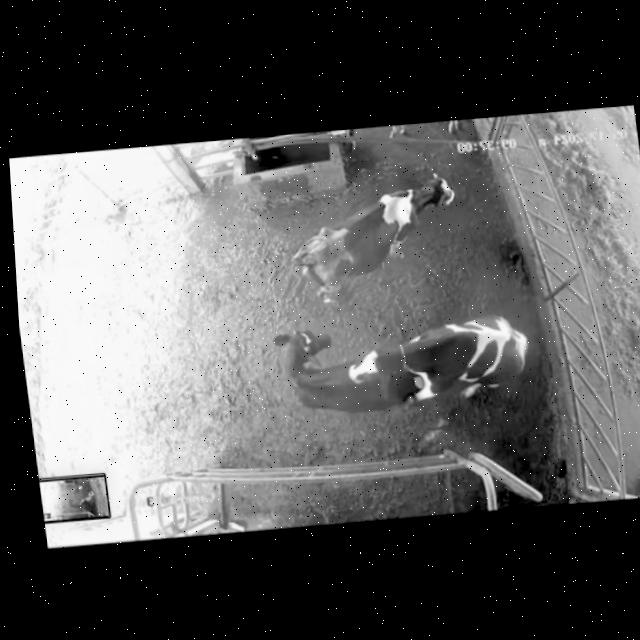ride: (334, 306, 545, 436)
stand: (261, 171, 480, 307), (253, 314, 412, 439)
